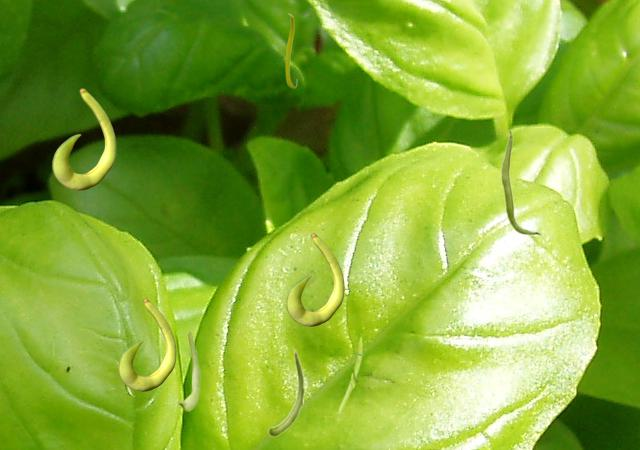french_bean: (52, 88, 115, 189), (286, 233, 343, 325), (118, 298, 175, 390), (500, 129, 541, 235), (267, 348, 304, 436), (337, 335, 362, 423), (175, 331, 199, 410), (285, 13, 296, 87), (124, 348, 134, 395)
